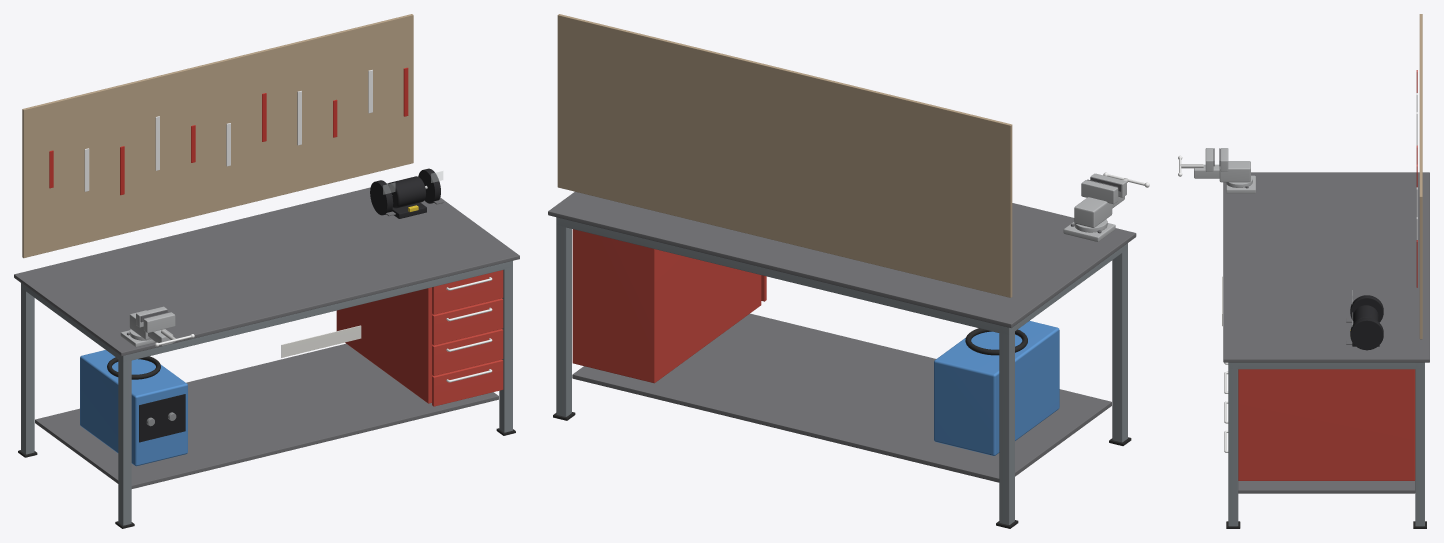
The model's file is repair_pro.glb.
3 renders of one model, left to right at view 1: azimuth 30°, elevation 25°; view 2: azimuth 150°, elevation 25°; view 3: azimuth 270°, elevation 25°, orthographic. The views are drawn at different scales.
Parts seen in each view (by area): view 1: SM_repair_pro; view 2: SM_repair_pro; view 3: SM_repair_pro.
Boxes of the visible parts, bbox=[...] form: SM_repair_pro: bbox=[14, 14, 519, 528]; SM_repair_pro: bbox=[548, 14, 1149, 528]; SM_repair_pro: bbox=[1178, 14, 1429, 528].
Bounding box in the file's own units: 2.25 × 1.86 × 1.28.
